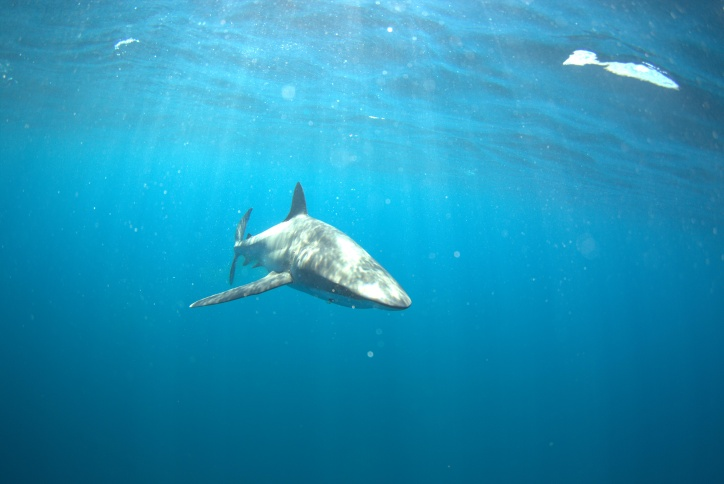Sedoso: (167, 175, 420, 320)
